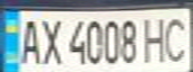0: (84, 16, 106, 65), (103, 16, 124, 65)
4: (63, 15, 87, 65)
8: (118, 16, 142, 65)
A: (15, 15, 45, 65)
C: (160, 12, 193, 63)
H: (139, 12, 172, 64)
X: (36, 14, 63, 65)
